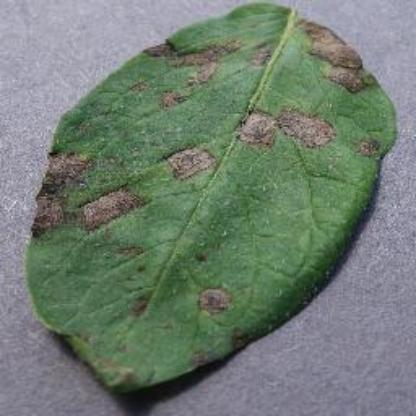Early-Blight: (27, 4, 401, 394)
